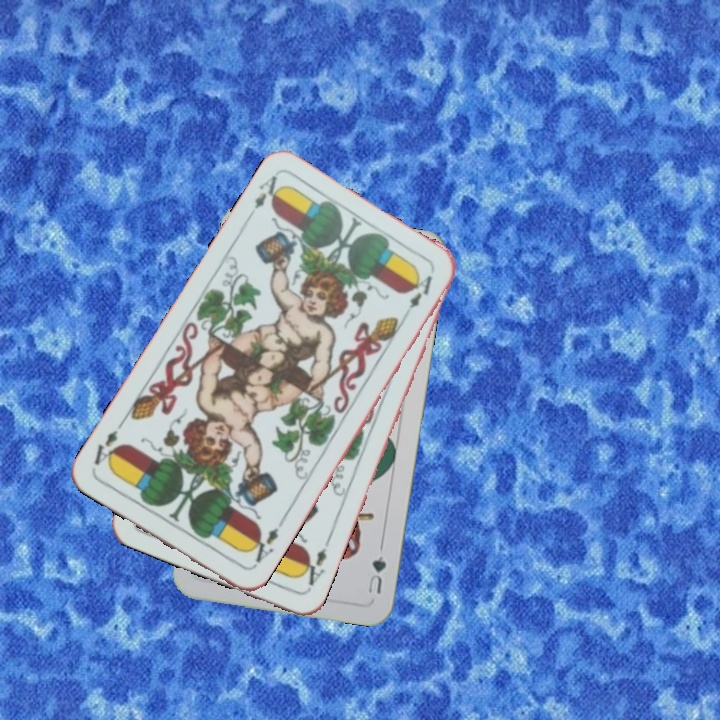EA: (244, 517, 286, 570), (244, 171, 286, 224), (296, 535, 333, 592)
GU: (364, 552, 389, 596)
